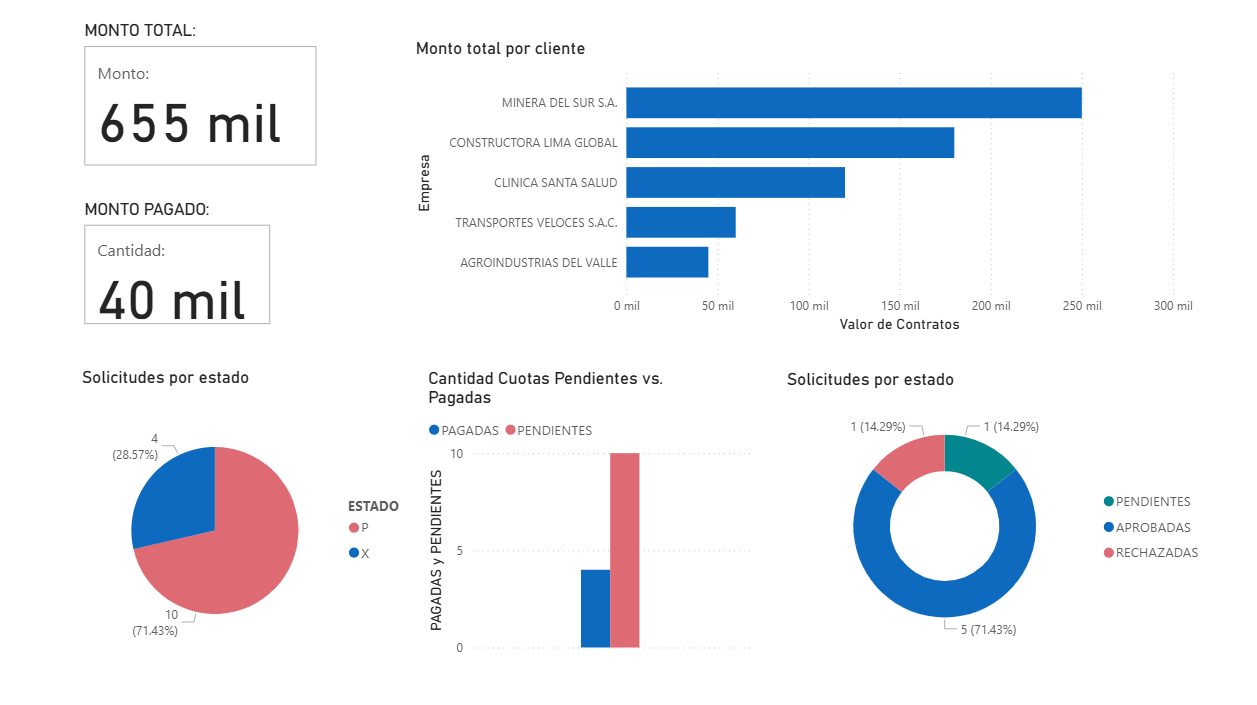

Layout of this report page (visuals, bound fields, positions):
{"tool":"powerbi","page":{"name":"Por Razón Social","canvas":[1280,720],"ordinal":0},"visuals":[{"type":"cardVisual","title":"MONTO TOTAL:","fields":{"Data":["Sum(CONTRATO_DATA_TABLE.VALOR_BIEN)"]},"box":[92.6,31.1,241.3,150.5],"z":0},{"type":"cardVisual","title":"MONTO PAGADO:","fields":{"Data":["Sum(CUOTA_DATA_TABLE.MONTO)"]},"box":[92.6,209,195.3,130.6],"z":1000},{"type":"barChart","title":"Monto total por cliente","fields":{"Y":["Sum(CONTRATO_DATA_TABLE.VALOR_BIEN)"],"Category":["EMPRESA_ARR_DATA_TABLE.RAZON_SOCIAL"]},"box":[422.2,48.8,783.7,298.6],"z":2000},{"type":"pieChart","title":"Solicitudes por estado ","fields":{"Category":["CUOTA_DATA_TABLE.ESTADO"],"Y":["CountNonNull(CUOTA_DATA_TABLE.EMISOR)"]},"box":[89.1,375.4,345.8,306],"z":3000},{"type":"clusteredColumnChart","title":"Cantidad Cuotas Pendientes vs. Pagadas","fields":{"Y":["CUOTA_DATA_TABLE.Cuotas_Pagadas","CUOTA_DATA_TABLE.Cuotas_Pendientes"]},"box":[434.6,377.2,330.9,292.3],"z":4000},{"type":"donutChart","title":"Solicitudes por estado ","fields":{"Y":["SOLICITUD_DATA_TABLE.CONT_SOLICITUDES_PENDIENTES","SOLICITUD_DATA_TABLE.CONT_SOLICITUDES_APROBADOS","SOLICITUD_DATA_TABLE.CONT_SOLICITUDES_RECHAZADAS"]},"box":[791.7,378.4,429.2,292.3],"z":5000}]}

Visuals, with their boxes in screenshot pixels (x1, y1, x2, y2), scaled from the page's 1280x720 canvas onto the 1257x705 screenshot:
"MONTO TOTAL:" cardVisual: 91:30:328:178
"MONTO PAGADO:" cardVisual: 91:205:283:333
"Monto total por cliente" barChart: 415:48:1184:340
"Solicitudes por estado " pieChart: 87:368:427:667
"Cantidad Cuotas Pendientes vs. Pagadas" clusteredColumnChart: 427:369:752:656
"Solicitudes por estado " donutChart: 777:371:1199:657
